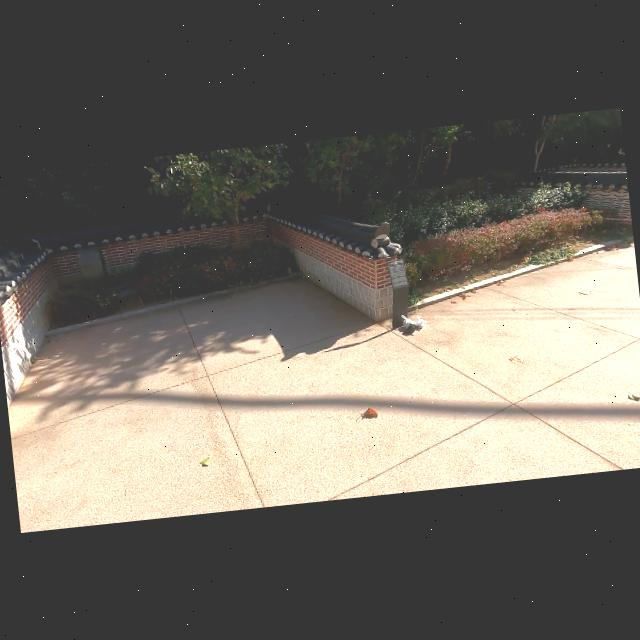trash: (403, 320, 420, 335), (401, 314, 416, 329), (413, 314, 428, 329)
